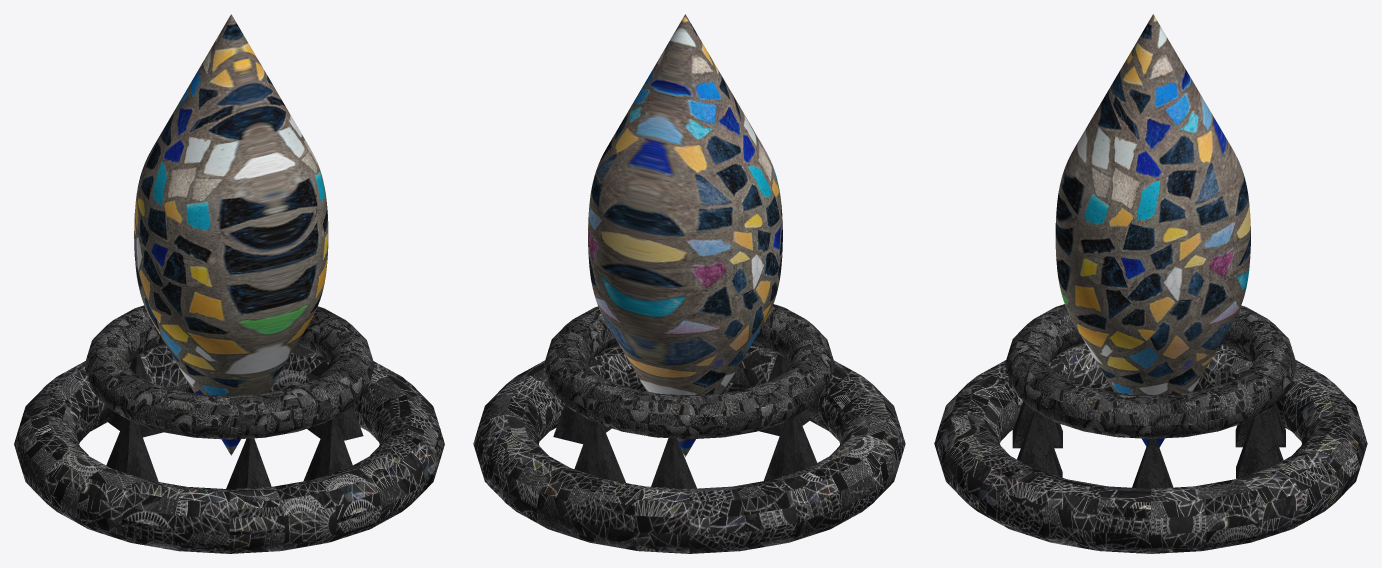
Rendered from FloatingStatue.FBX.
The picture shows the model from 3 angles, left to right: view 1: azimuth 30°, elevation 25°; view 2: azimuth 150°, elevation 25°; view 3: azimuth 270°, elevation 25°; orthographic projection.
Visible parts, largest first — view 1: Spindle001, Torus003, Torus002, Pyramid001, Pyramid005, Pyramid003, Pyramid004, Pyramid002; view 2: Spindle001, Torus003, Torus002, Pyramid001, Pyramid006, Pyramid002, Pyramid004, Pyramid003; view 3: Spindle001, Torus003, Torus002, Pyramid006, Pyramid005, Pyramid004, Pyramid003, Pyramid002.
Part boxes in pixels (bbox=[...]): Spindle001: bbox=[134, 14, 328, 455]; Torus003: bbox=[14, 344, 444, 553]; Torus002: bbox=[84, 305, 374, 439]; Pyramid001: bbox=[106, 418, 158, 481]; Pyramid005: bbox=[303, 417, 352, 481]; Pyramid003: bbox=[226, 438, 271, 489]; Pyramid004: bbox=[307, 363, 363, 440]; Pyramid002: bbox=[107, 355, 162, 437]; Spindle001: bbox=[588, 14, 782, 456]; Torus003: bbox=[473, 343, 905, 553]; Torus002: bbox=[544, 304, 834, 439]; Pyramid001: bbox=[764, 415, 817, 480]; Pyramid006: bbox=[574, 421, 625, 482]; Pyramid002: bbox=[651, 438, 696, 488]; Pyramid004: bbox=[553, 365, 611, 443]; Pyramid003: bbox=[759, 353, 810, 436]; Spindle001: bbox=[1055, 14, 1250, 447]; Torus003: bbox=[934, 343, 1367, 553]; Torus002: bbox=[1005, 304, 1296, 438]; Pyramid006: bbox=[1236, 411, 1283, 478]; Pyramid005: bbox=[1017, 410, 1062, 477]; Pyramid004: bbox=[1132, 438, 1173, 488]; Pyramid003: bbox=[1012, 401, 1062, 448]; Pyramid002: bbox=[1235, 403, 1285, 447].
Bounding box in the file's own units: 121 × 142 × 121.
Materials: 3 (3 with a texture image).
